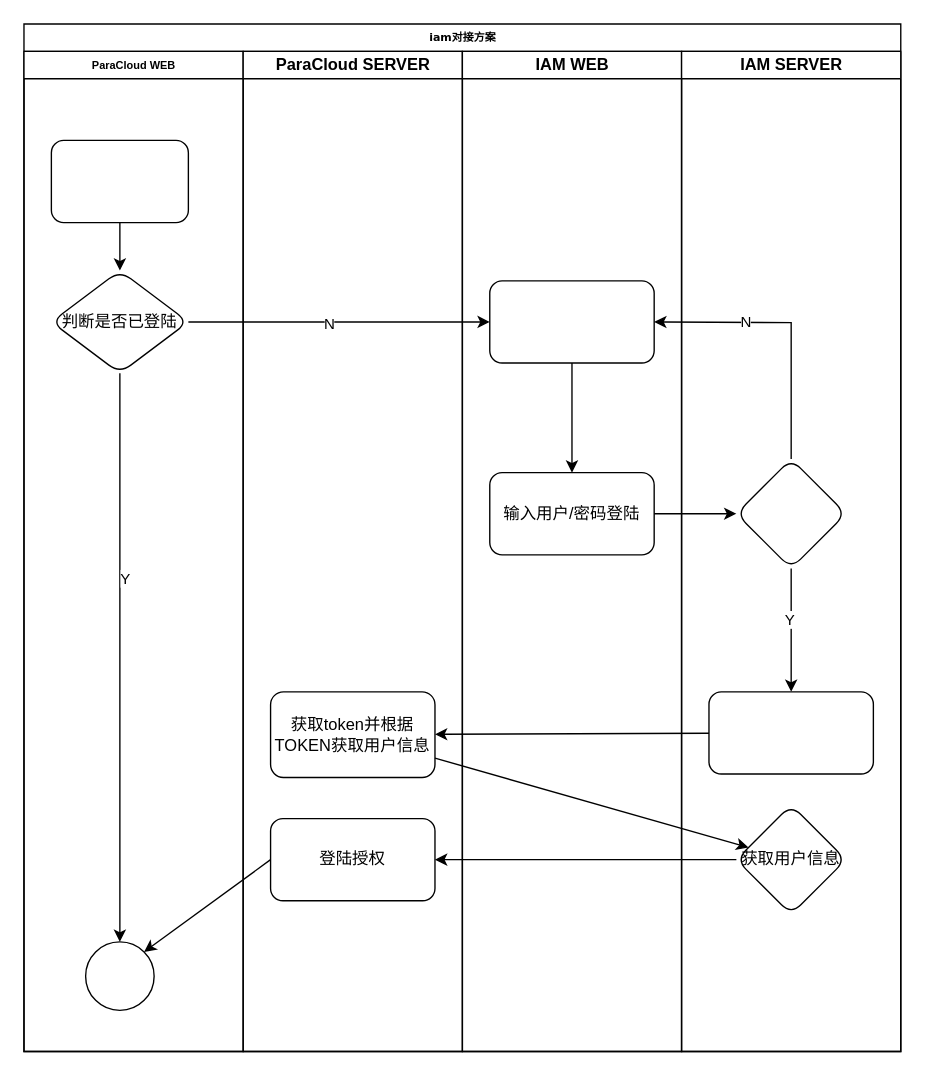
Some shapes in this 925 by 1075 pixel diagram are drawn without their labels. The shapes that lost their labels are listed below. From the top down, each one's centre as x and y in pixels, then its label:
At point 119,181: "用户打开Paracloud页面".
At point 571,321: "打开IMA登陆页面".
At point 790,513: "校验用户/密码".
At point 790,732: "回调paracloud接口进行登陆".
At point 119,975: "进入系统".
